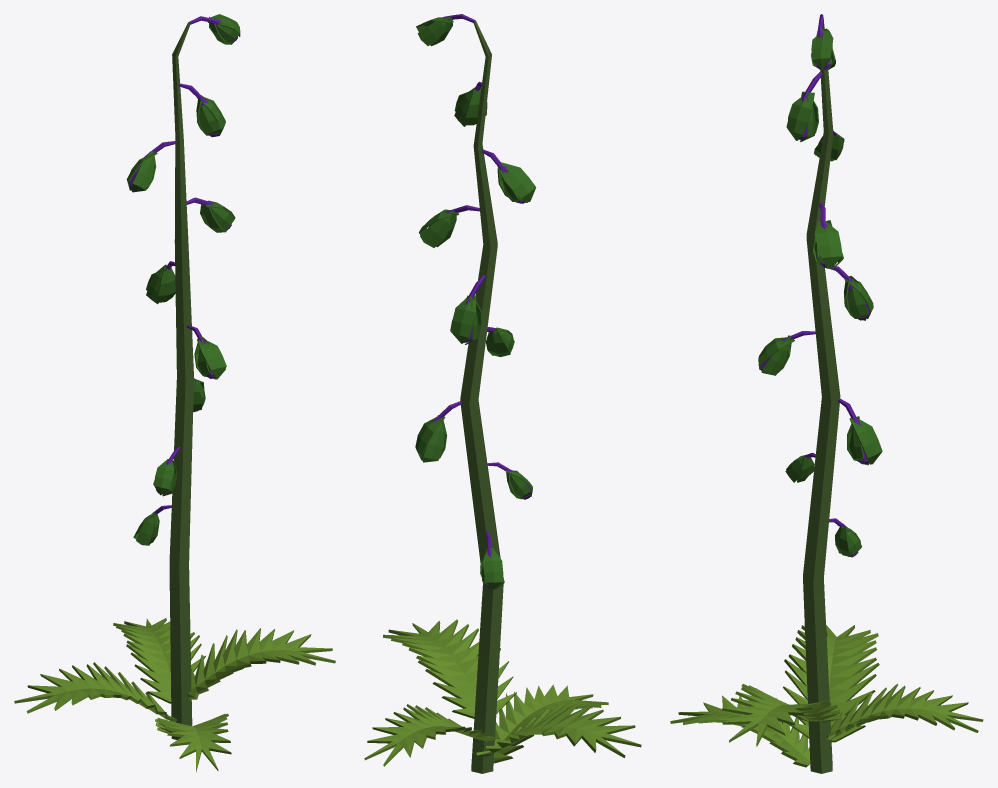
Rendered from Eisenhut_1.fbx.
3 views of the same model, side by side, from view 1: azimuth 30°, elevation 25°; view 2: azimuth 150°, elevation 25°; view 3: azimuth 270°, elevation 25° (orthographic). The views are drawn at different scales.
Parts seen in each view (by area): view 1: Eisenhut_1; view 2: Eisenhut_1; view 3: Eisenhut_1.
Part boxes in pixels (x1=…): Eisenhut_1: x1=14, y1=14, x2=335, y2=772; Eisenhut_1: x1=364, y1=14, x2=641, y2=773; Eisenhut_1: x1=670, y1=14, x2=983, y2=773.
Size of the model in its own units: 50.61 by 126 by 47.13.
